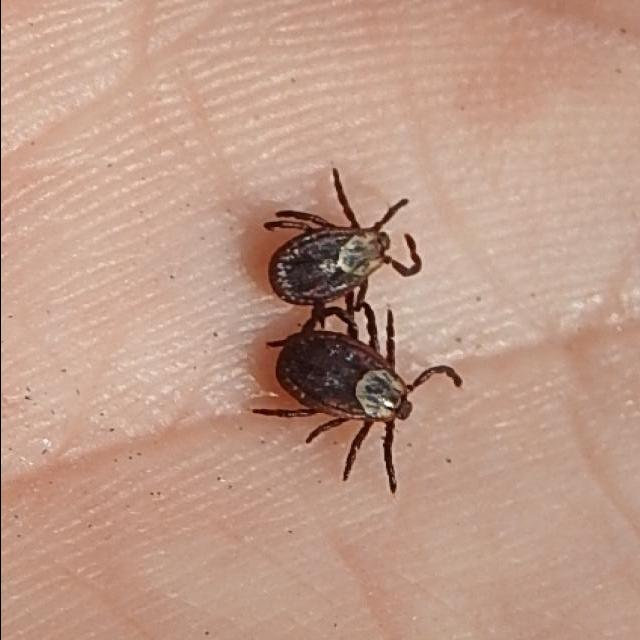Dermacentor Reticulatus-F: (251, 298, 463, 493)
